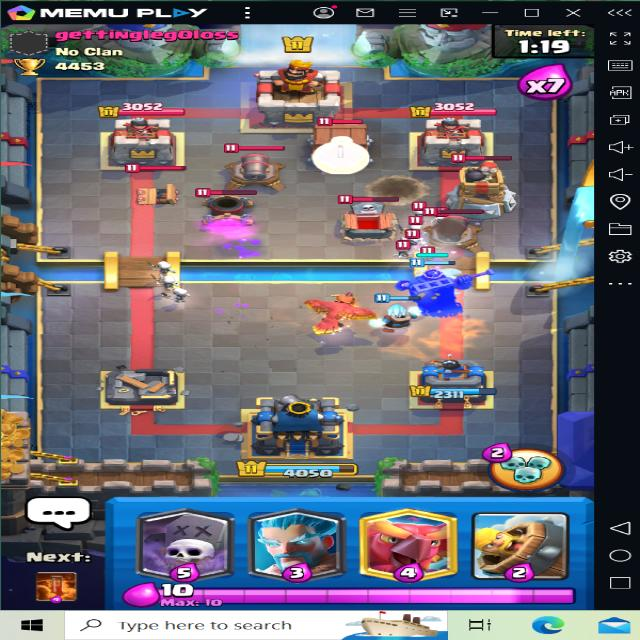bomb-tower: (449, 153, 522, 214)
cannon: (216, 139, 298, 194), (416, 205, 497, 253)
goblin-cage: (300, 113, 377, 162)
mortar: (192, 187, 266, 222)
skeleton: (403, 227, 427, 253), (403, 214, 432, 234), (395, 240, 421, 260), (412, 200, 432, 220)
tesla-closed: (123, 156, 187, 208)
tombstone: (333, 191, 398, 247)
